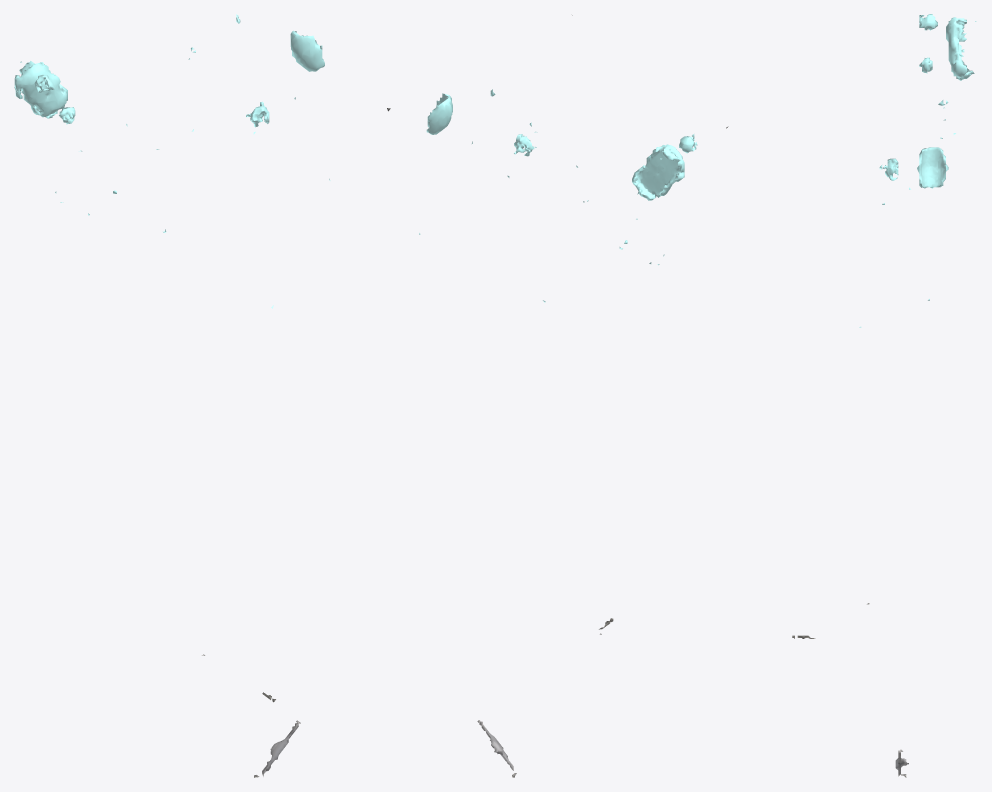
3 views of the same model, side by side, from view 1: azimuth 30°, elevation 25°; view 2: azimuth 150°, elevation 25°; view 3: azimuth 270°, elevation 25° (orthographic). The views are drawn at different scales.
Size of the model in its own units: 0.1182 by 0.2846 by 0.0952.
